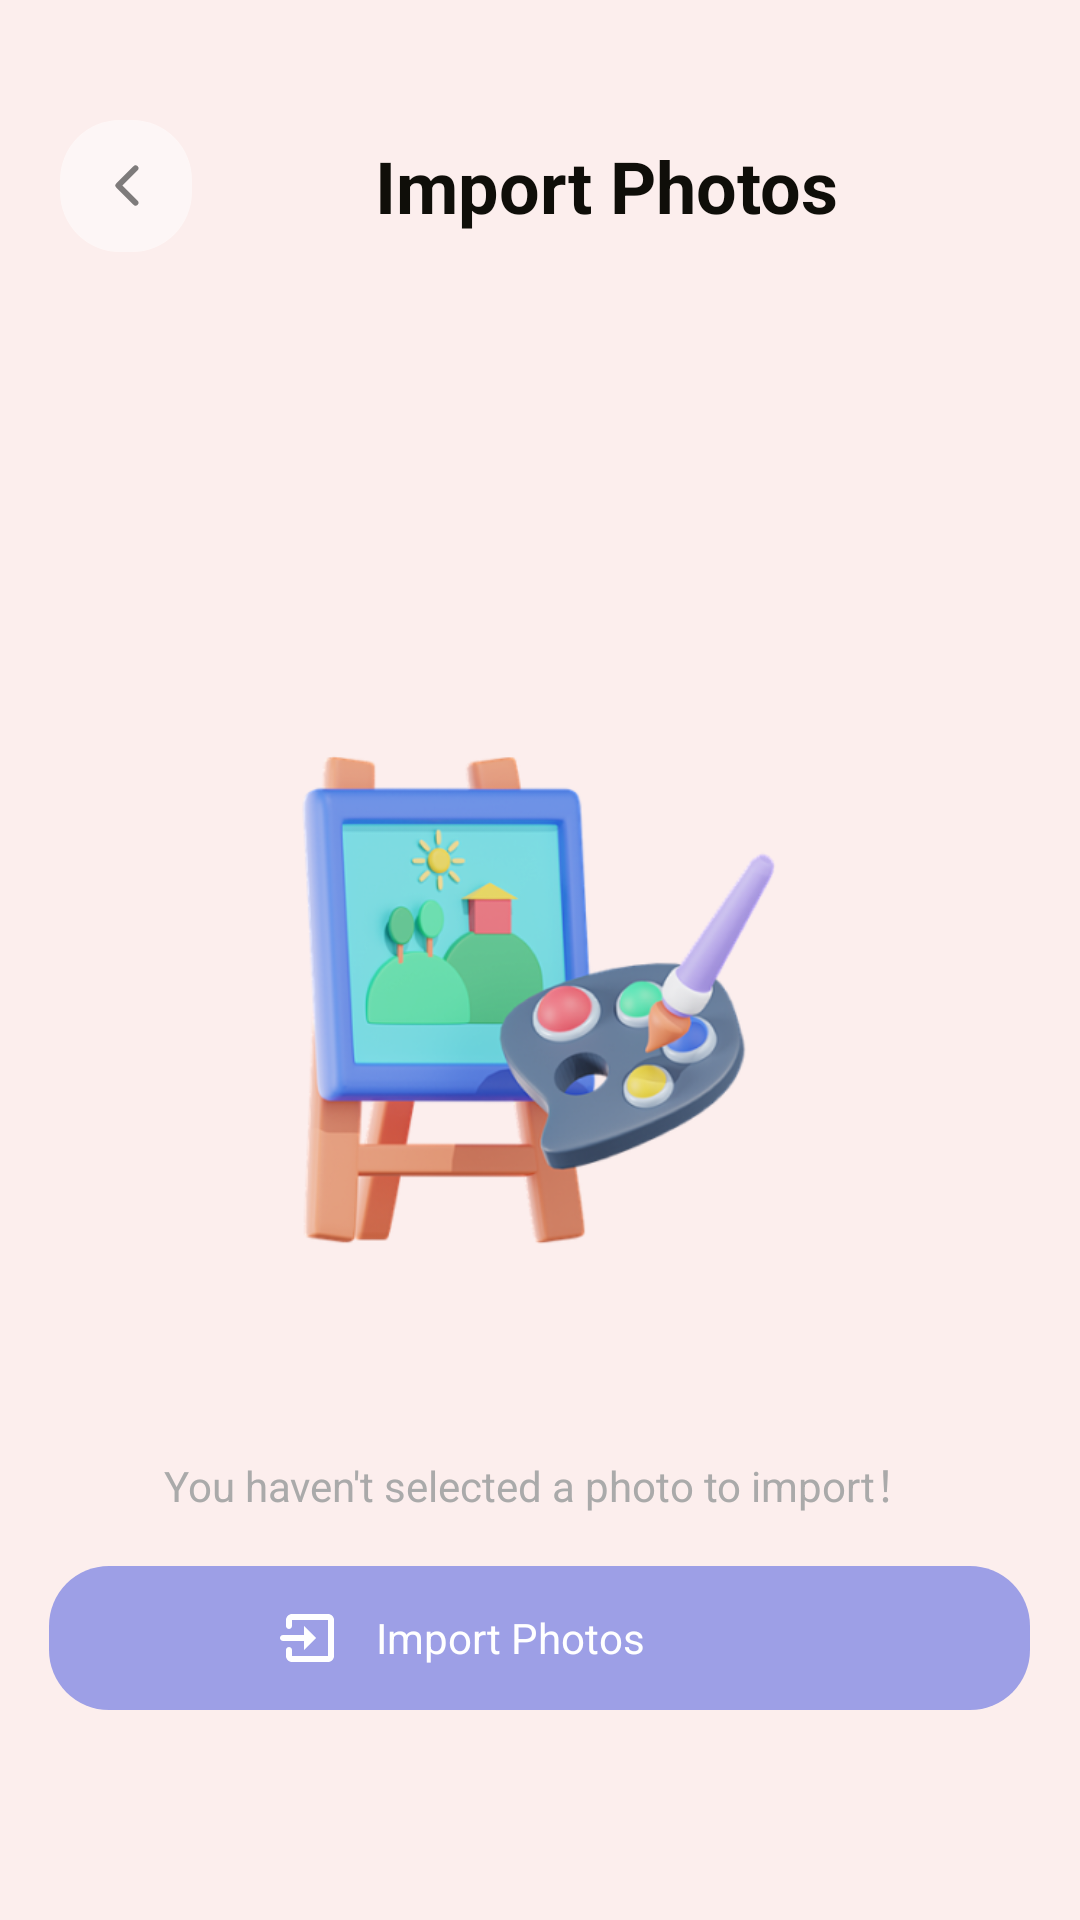

Icons on this 1080w x 1920h Android screen, each with its box as (x1, y1, x2, y2):
back: (115, 165, 139, 206)
